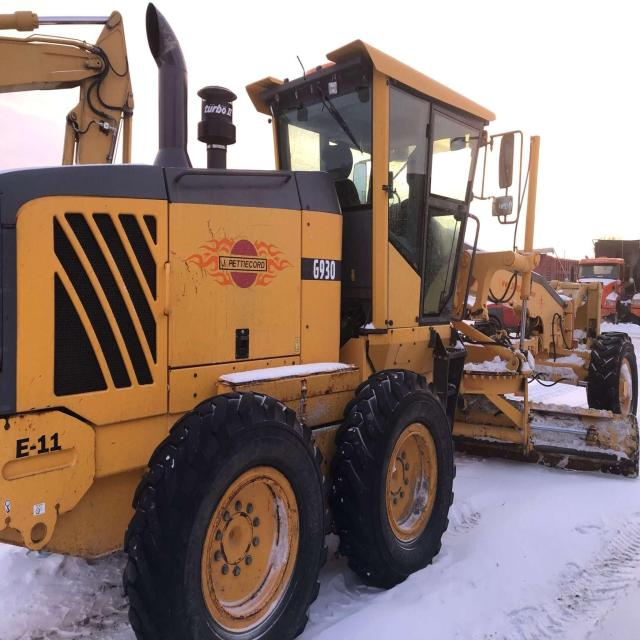buldozerpayloadergrader: (19, 18, 640, 640)
